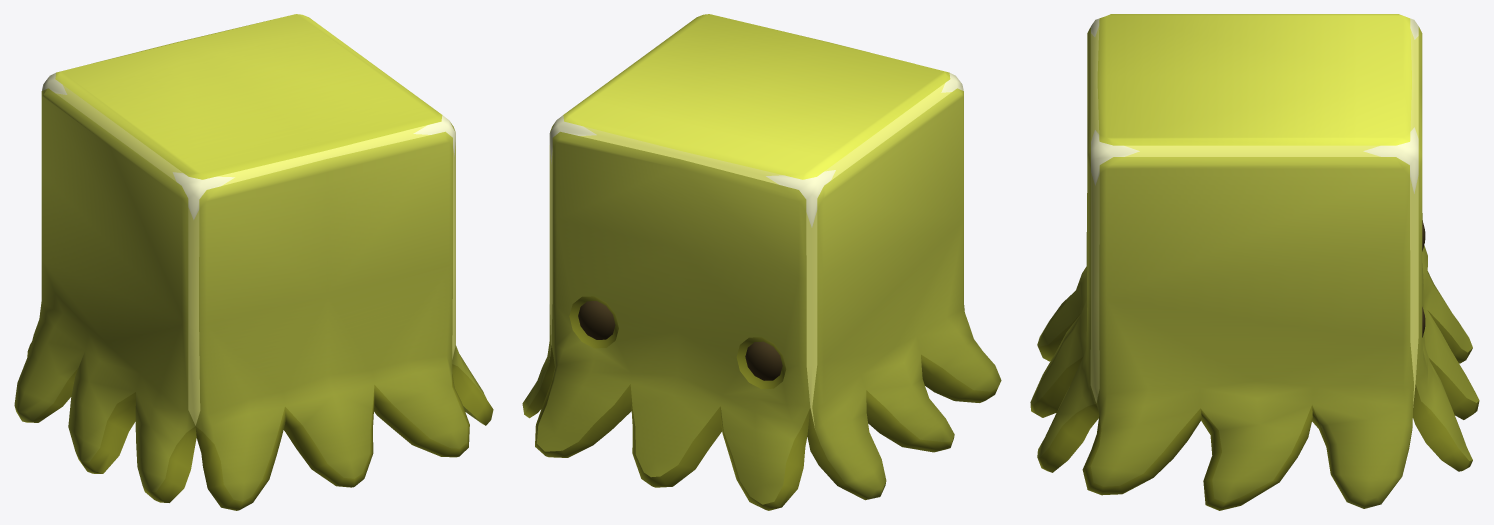
Rendered from Cubimal_Squid.fbx.
3 views of the same model, side by side, from view 1: azimuth 30°, elevation 25°; view 2: azimuth 150°, elevation 25°; view 3: azimuth 270°, elevation 25° (orthographic). The views are drawn at different scales.
Visible parts, largest first — view 1: Body; view 2: Body; view 3: Body.
Part boxes in pixels (bbox=[...]): Body: bbox=[14, 14, 493, 510]; Body: bbox=[522, 14, 1001, 510]; Body: bbox=[1030, 14, 1479, 510].
Bounding box in the file's own units: 26.63 × 22.83 × 26.94.
